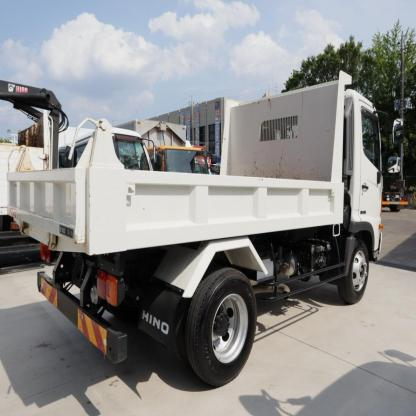dump_truck: (17, 72, 405, 398)
